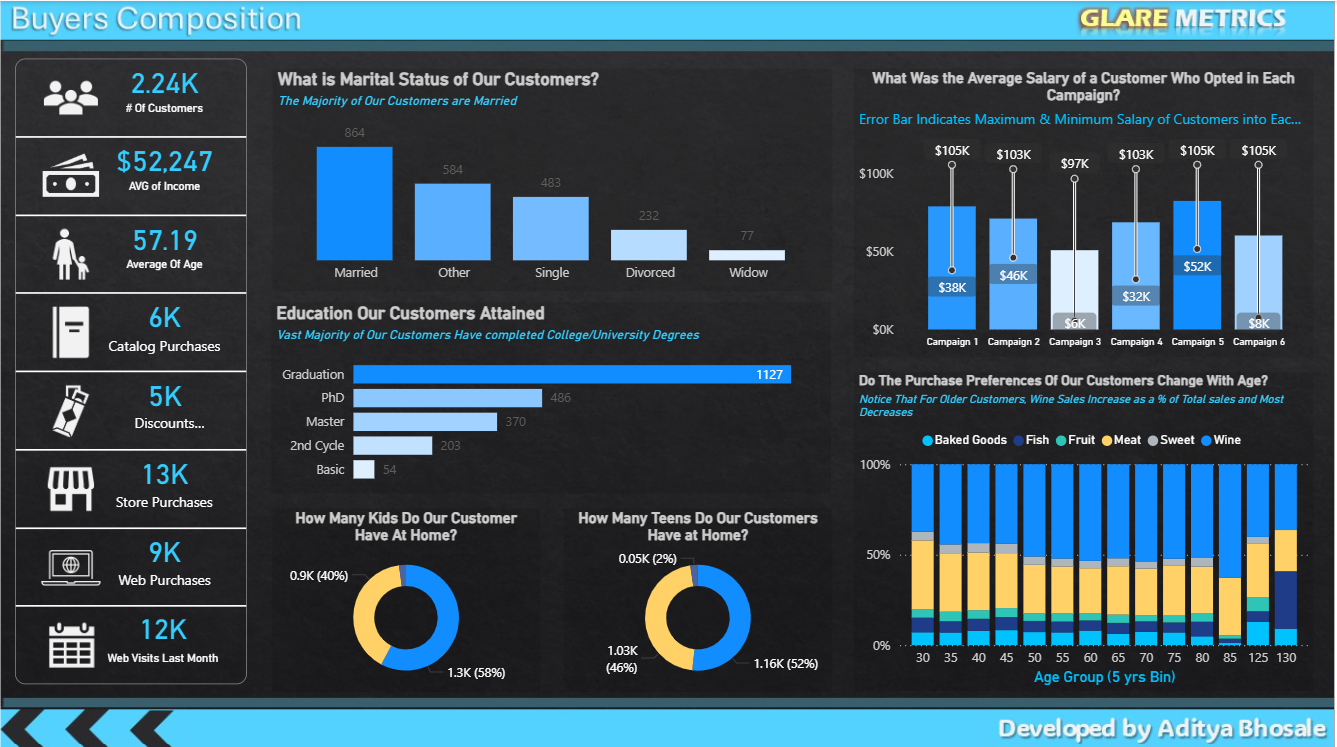

This screenshot's page, from the dashboard's own definition file:
{"tool":"powerbi","page":{"name":"Buyer Composition","canvas":[1280,720],"ordinal":1},"visuals":[{"type":"columnChart","title":"What is Marital Status of Our Customers?","fields":{"Category":["Marketing Data.Marital_Status"],"Y":["CountNonNull(Marketing Data.ID)"]},"box":[261.1,64.9,536.7,213.5],"z":0},{"type":"clusteredBarChart","title":"Education Our Customers Attained","fields":{"Category":["Marketing Data.Education"],"Y":["CountNonNull(Marketing Data.ID)"]},"box":[260.1,288.8,536.9,183.4],"z":1000},{"type":"donutChart","title":"How Many Kids Do Our Customer Have At Home?","fields":{"Category":["Marketing Data.Kidhome"],"Y":["CountNonNull(Marketing Data.ID)"]},"box":[261.3,486.6,256.5,176.2],"z":2000},{"type":"donutChart","title":"How Many Teens Do Our Customers Have at Home?","fields":{"Category":["Marketing Data.Teenhome"],"Y":["CountNonNull(Marketing Data.ID)"]},"box":[540.5,486.6,257.7,176.2],"z":3000},{"type":"clusteredColumnChart","title":"What Was the Average Salary of a Customer Who Opted in Each Campaign?","fields":{"Category":["Campaign.Campaign"],"Y":["Avg(Marketing Data. Income )"]},"box":[818.6,64.7,441,276.9],"z":4000},{"type":"hundredPercentStackedColumnChart","title":"Do The Purchase Preferences Of Our Customers Change With Age?","fields":{"Category":["Marketing Data.Age grps"],"Series":["Products.Product"],"Y":["Sum(Products.ToTal Sales)"]},"box":[818.6,356,441,305.6],"z":5000},{"type":"cardVisual","fields":{"Data":["CountNonNull(Marketing Data.ID)","Avg(Marketing Data. Income )","Avg(Marketing Data.Age)","Sum(Marketing Data.Purchased - Catalog)","Sum(Marketing Data.Purchased - Deal)","Sum(Marketing Data.Purchased - Stores)","Sum(Marketing Data.Purchased - Web)","Sum(Marketing Data.Web Visits Last Month)"]},"box":[9.6,50.3,232.5,611.2],"z":6000}]}

Visuals, with their boxes in screenshot pixels (x1, y1, x2, y2), scaled from the page's 1280x720 canvas onto the 1337x747 screenshot:
"What is Marital Status of Our Customers?" columnChart: detection(273, 67, 833, 289)
"Education Our Customers Attained" clusteredBarChart: detection(272, 300, 832, 490)
"How Many Kids Do Our Customer Have At Home?" donutChart: detection(273, 505, 541, 688)
"How Many Teens Do Our Customers Have at Home?" donutChart: detection(565, 505, 834, 688)
"What Was the Average Salary of a Customer Who Opted in Each Campaign?" clusteredColumnChart: detection(855, 67, 1316, 354)
"Do The Purchase Preferences Of Our Customers Change With Age?" hundredPercentStackedColumnChart: detection(855, 369, 1316, 686)
cardVisual - CountNonNull(Marketing Data.ID) x Avg(Marketing Data. Income ): detection(10, 52, 253, 686)
